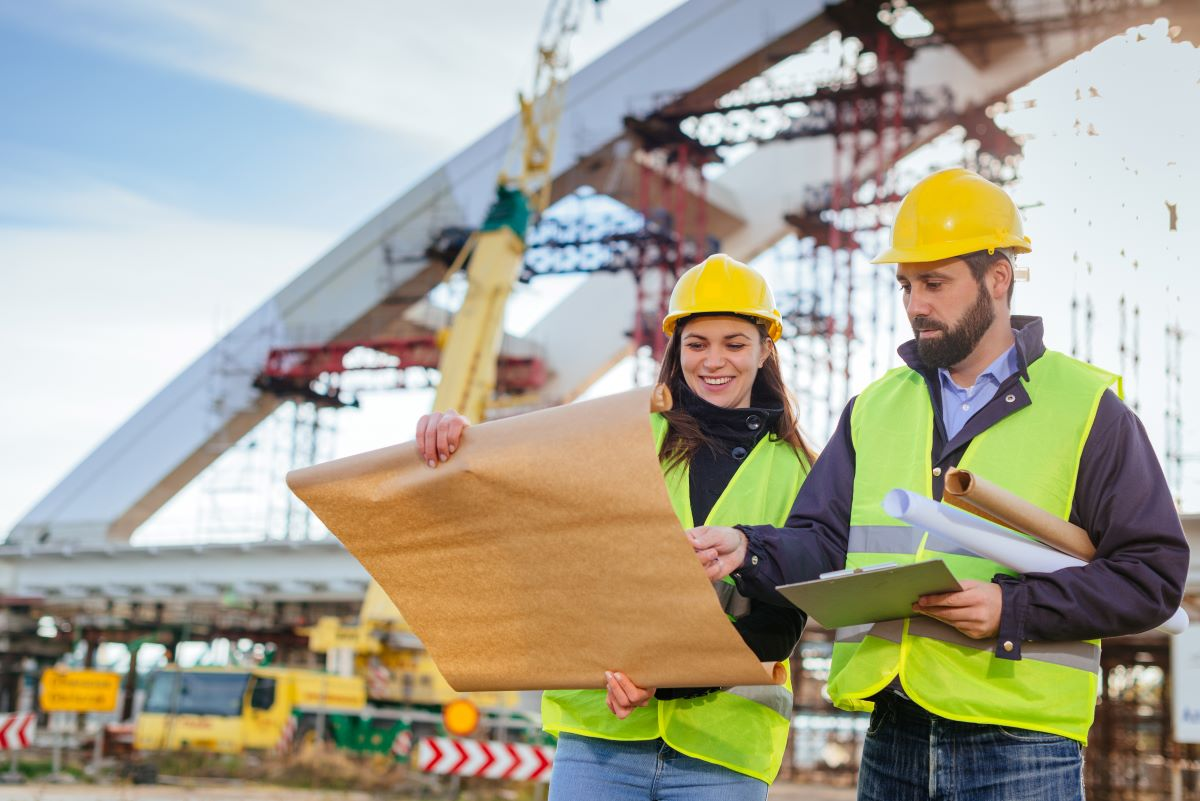hard hat: (869, 168, 1033, 265), (661, 254, 781, 343)
high-vis: (825, 352, 1123, 751), (538, 400, 813, 789)
